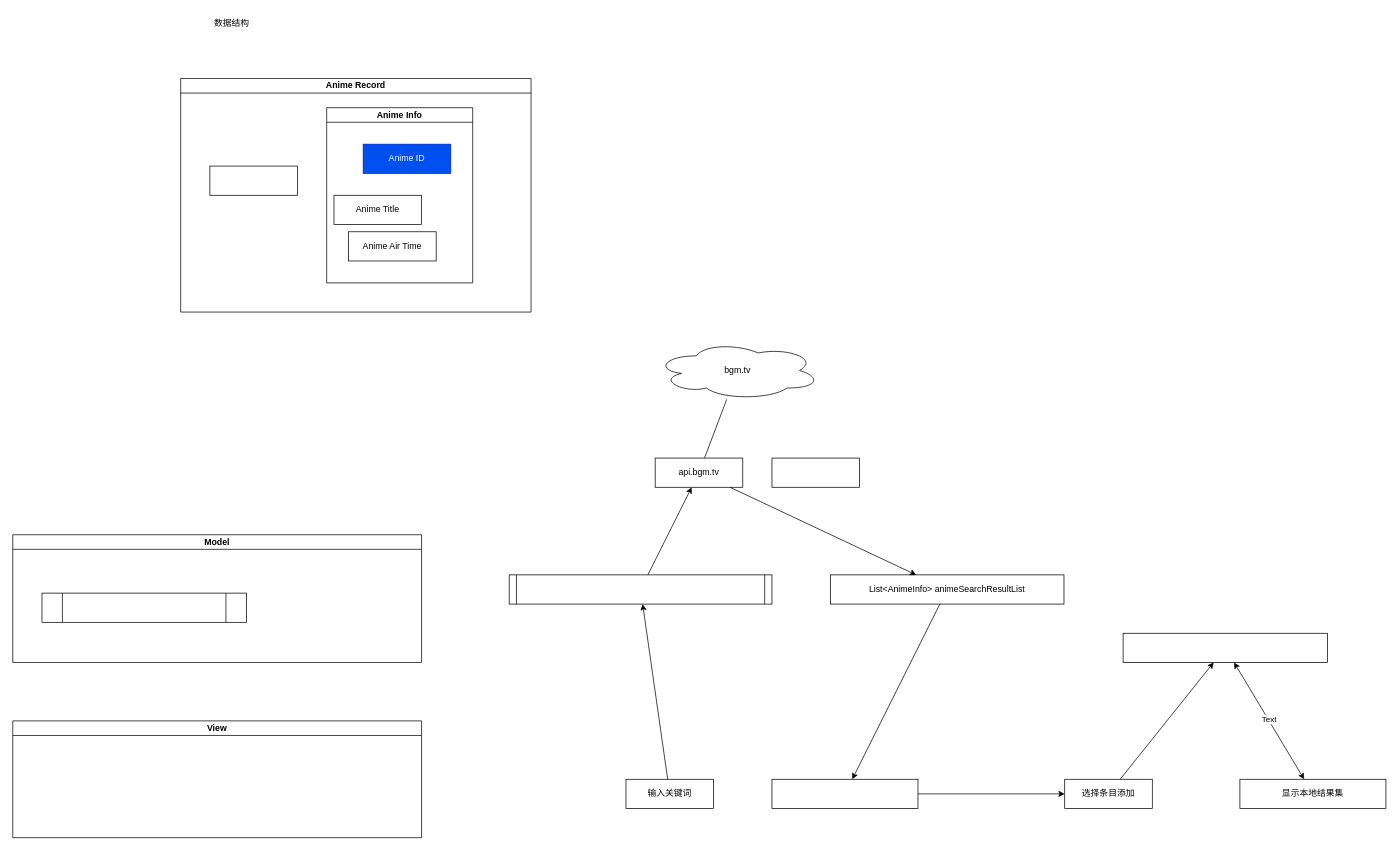
Some shapes in this 1399 by 850 pixel diagram are drawn without their labels. Each missing label, with the centre of its shape:
"Anime Viewing Status" belongs at (x=253, y=180).
"GetAnimeInfo" belongs at (x=143, y=607).
"List< AnimeRecord > animeRecordList" belongs at (x=1225, y=647).
"List<AnimeInfo> SearchAnimeInfo(String keyword)" belongs at (x=640, y=589).
"v0/search/subjects" belongs at (x=815, y=472).
"显示搜索结果集" belongs at (x=844, y=793).
